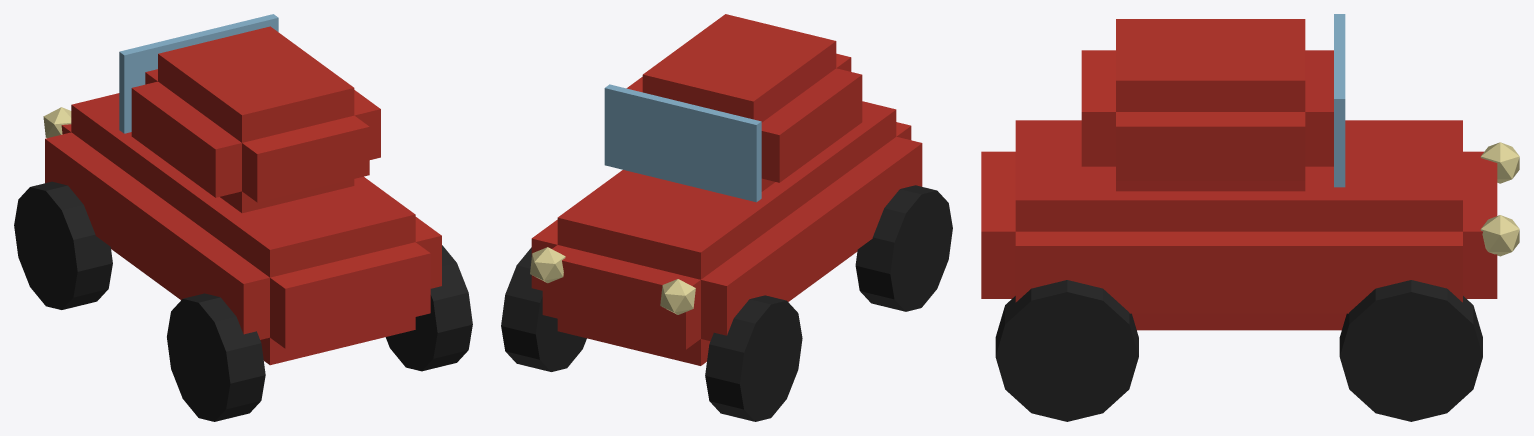
File: toy-car.glb
3 renders of one model, left to right at view 1: azimuth 30°, elevation 25°; view 2: azimuth 150°, elevation 25°; view 3: azimuth 270°, elevation 25°, orthographic. The views are drawn at different scales.
Visible parts, largest first — view 1: toy-car; view 2: toy-car; view 3: toy-car.
Boxes of the visible parts, x1,y1,x2,y2 form: toy-car: (14,14,472,421); toy-car: (501,14,952,421); toy-car: (981,14,1519,421).
Bounding box in the file's own units: 0.11 × 0.1175 × 0.1878.
